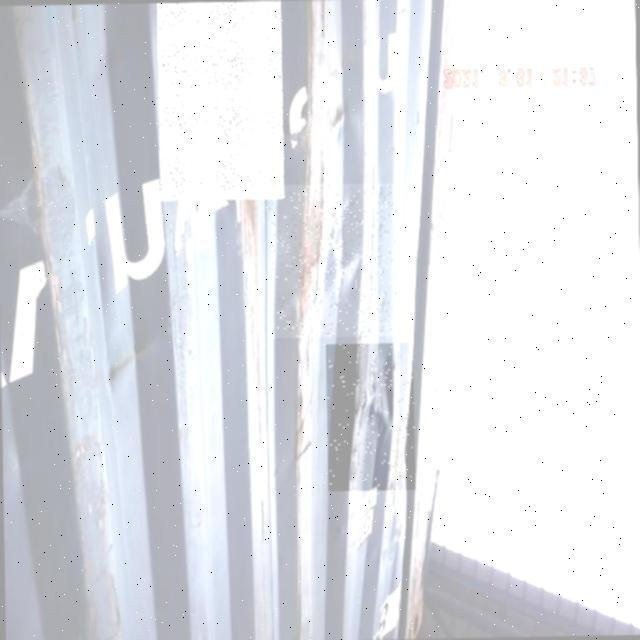Minor-Dent: (157, 1, 284, 201), (269, 183, 397, 338), (325, 343, 415, 491)
